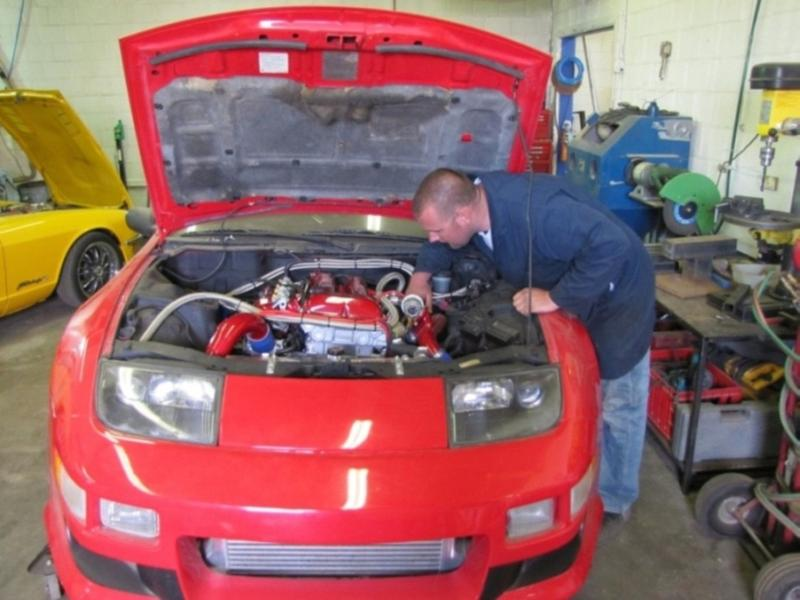person: (404, 168, 657, 519)
